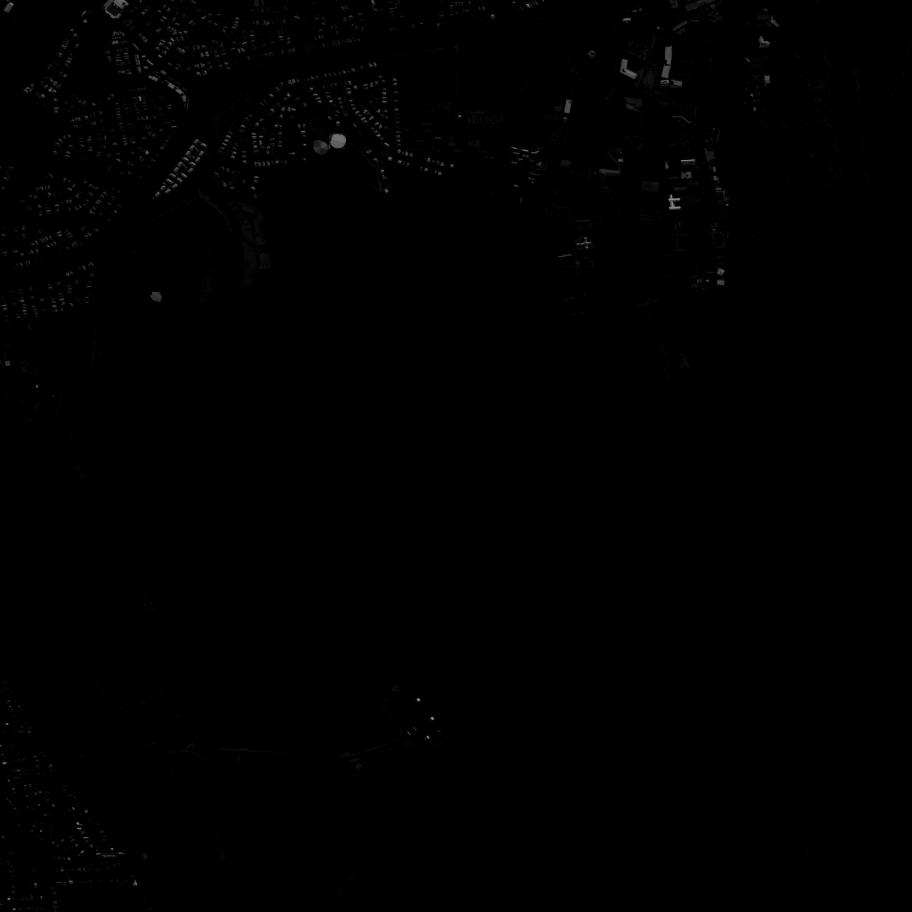storage-tank: (329, 133, 346, 149), (312, 140, 329, 155), (139, 284, 152, 295), (716, 267, 727, 277), (151, 292, 162, 302), (23, 376, 32, 385), (4, 360, 13, 368), (7, 373, 16, 380), (367, 188, 373, 193)
